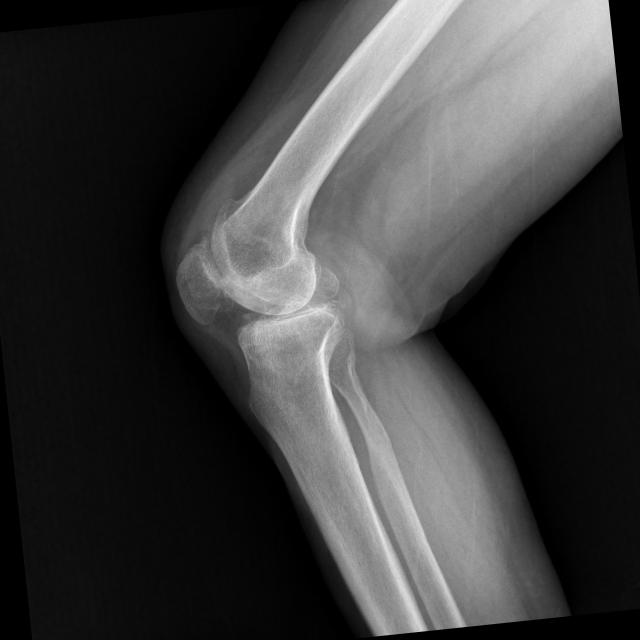Knee: (164, 209, 352, 404)
